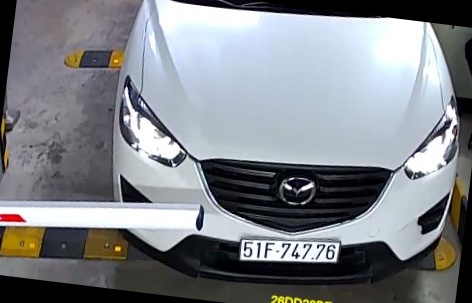plate: (236, 233, 350, 269)
